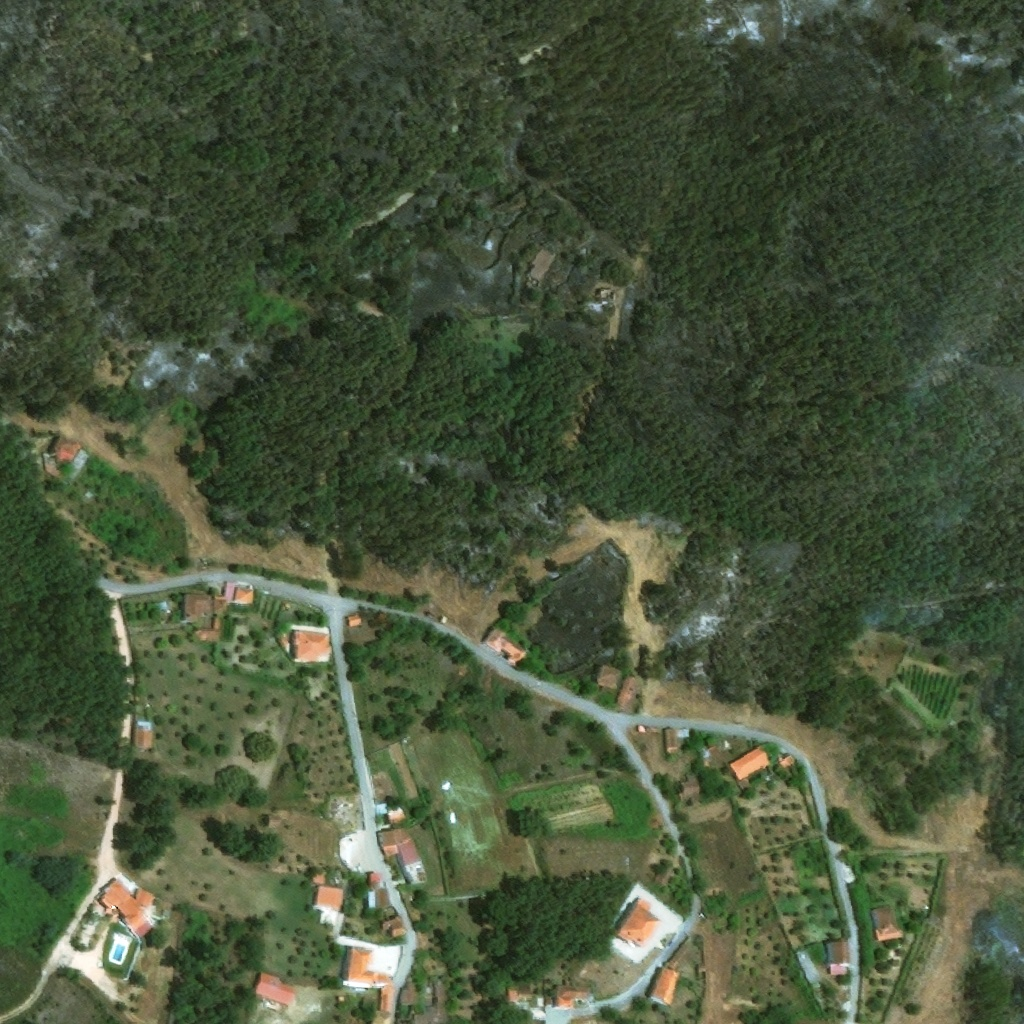0 no-damage: (103, 880, 155, 930), (618, 899, 660, 945), (485, 628, 529, 666), (347, 947, 388, 985), (256, 970, 298, 1007), (731, 747, 770, 781), (414, 985, 448, 1023), (292, 631, 329, 663), (379, 826, 415, 857), (651, 967, 680, 1005), (872, 905, 902, 941), (182, 594, 212, 623), (677, 773, 701, 806), (556, 986, 591, 1008), (827, 941, 849, 976), (396, 840, 423, 867), (617, 678, 637, 711), (316, 886, 343, 910), (597, 667, 622, 690), (382, 918, 408, 940), (380, 973, 395, 1010), (58, 441, 82, 464), (195, 621, 222, 641), (399, 982, 421, 1005), (368, 889, 389, 908), (135, 728, 152, 751), (507, 989, 533, 1003), (387, 808, 407, 824), (366, 1011, 392, 1023), (664, 729, 678, 750), (235, 588, 253, 603), (311, 868, 326, 886), (367, 873, 381, 890), (223, 583, 235, 601), (263, 815, 281, 827), (348, 614, 362, 627), (214, 598, 227, 612), (779, 757, 793, 769), (284, 604, 292, 611)
4 un-classified: (44, 463, 61, 479)
